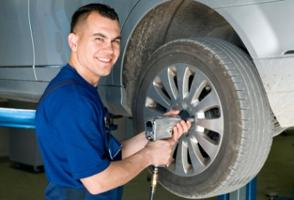person: (34, 4, 193, 200)
